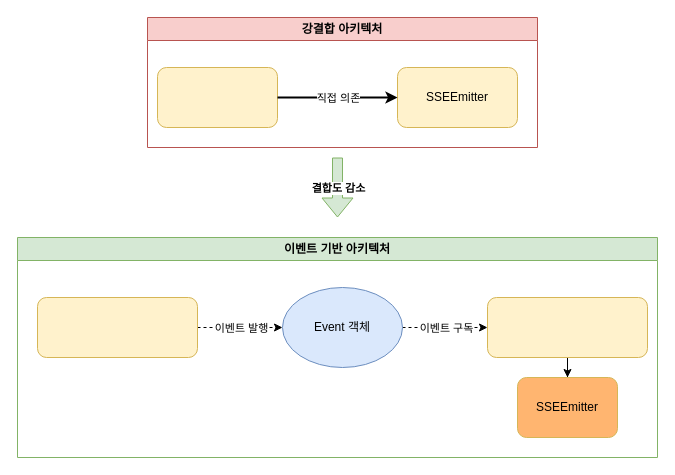
Some shapes in this 675 by 475 pixel diagram are drawn without their labels. Here are the shapes that lost their labels. From the top down, the box of each, then its label:
(156, 66, 278, 128): ~~Service
(36, 296, 198, 358): ~~Service (EventPublisher)
(486, 296, 648, 358): Event 리스너
